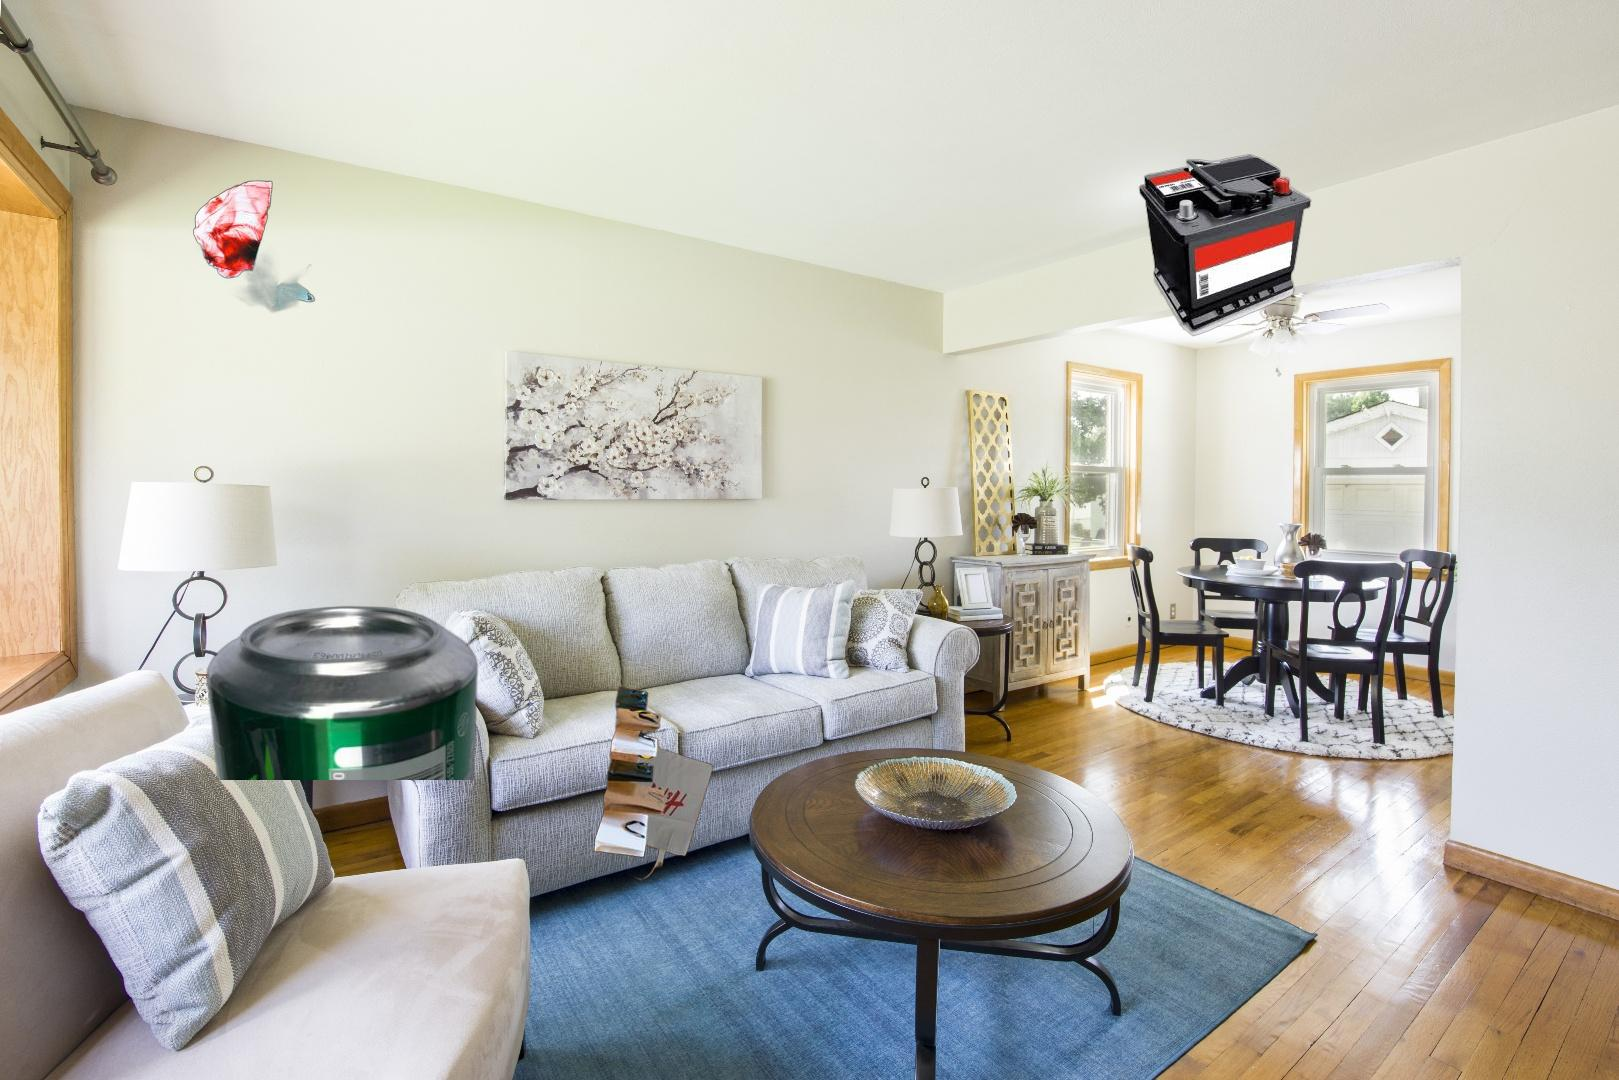battery: (1136, 152, 1314, 339)
metal-cans: (203, 603, 481, 780)
paper-bag: (591, 609, 821, 886)
plastic-bag: (190, 178, 318, 316)
